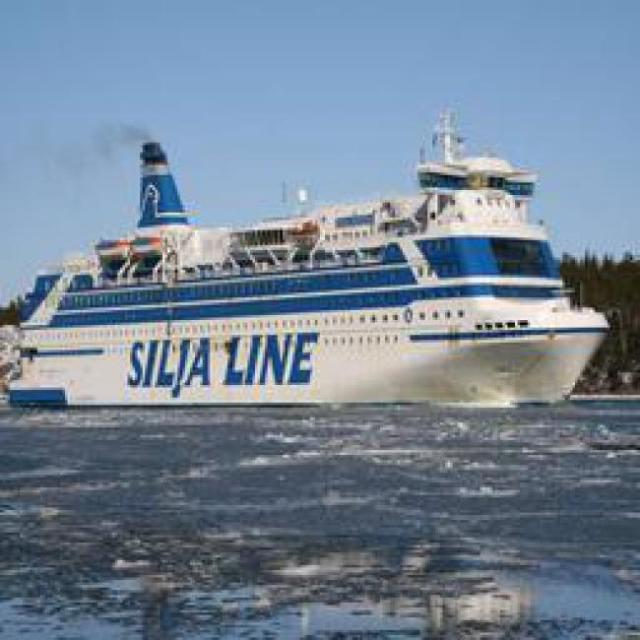boat: (22, 229, 604, 412)
